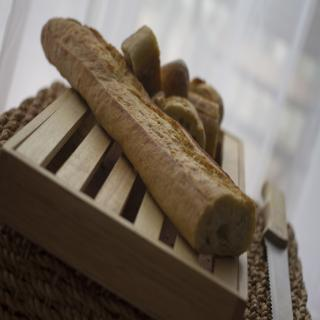Bread: (41, 18, 258, 259)
